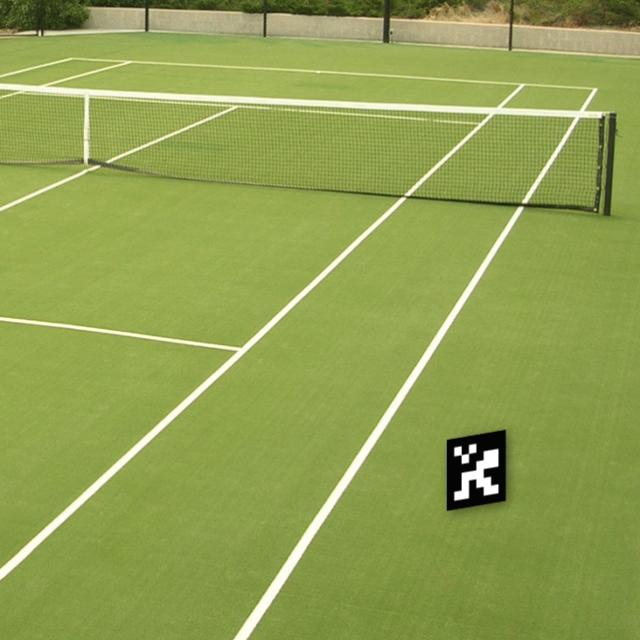marker: (436, 424, 525, 516)
